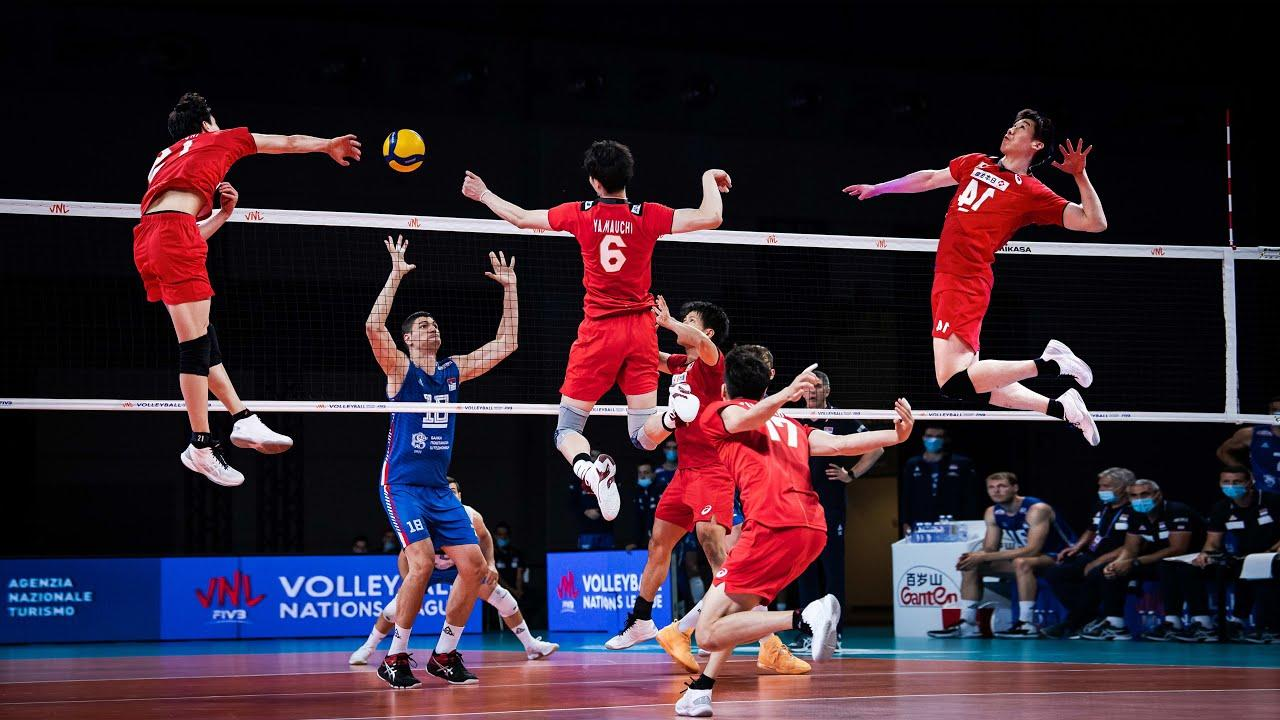ballon_volley: (382, 127, 426, 174)
